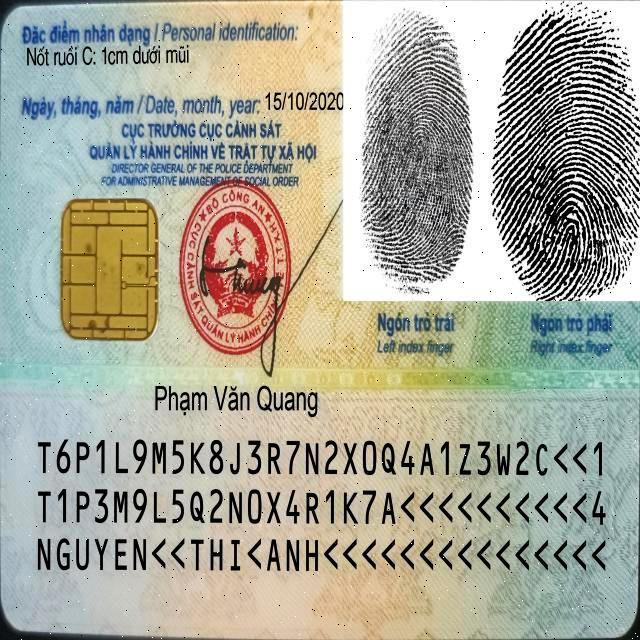features: (24, 42, 198, 72)
finger_print: (485, 0, 640, 365), (343, 3, 490, 362)
issue_date: (264, 86, 344, 115)
